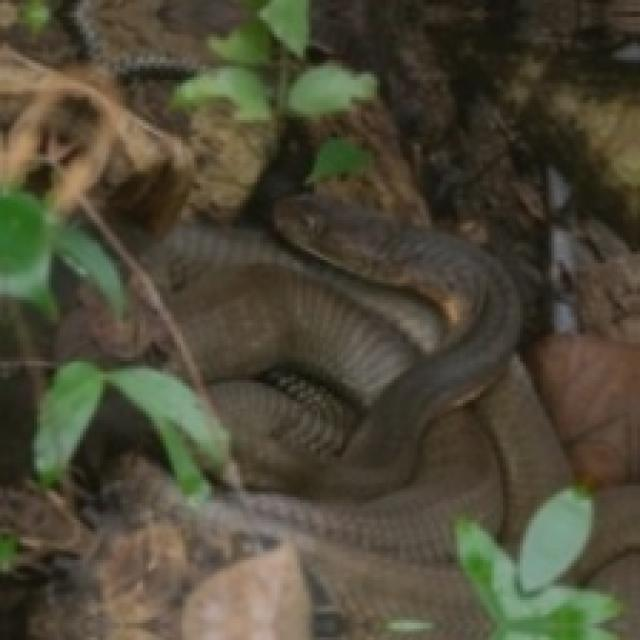king cobra: (146, 194, 517, 494)
